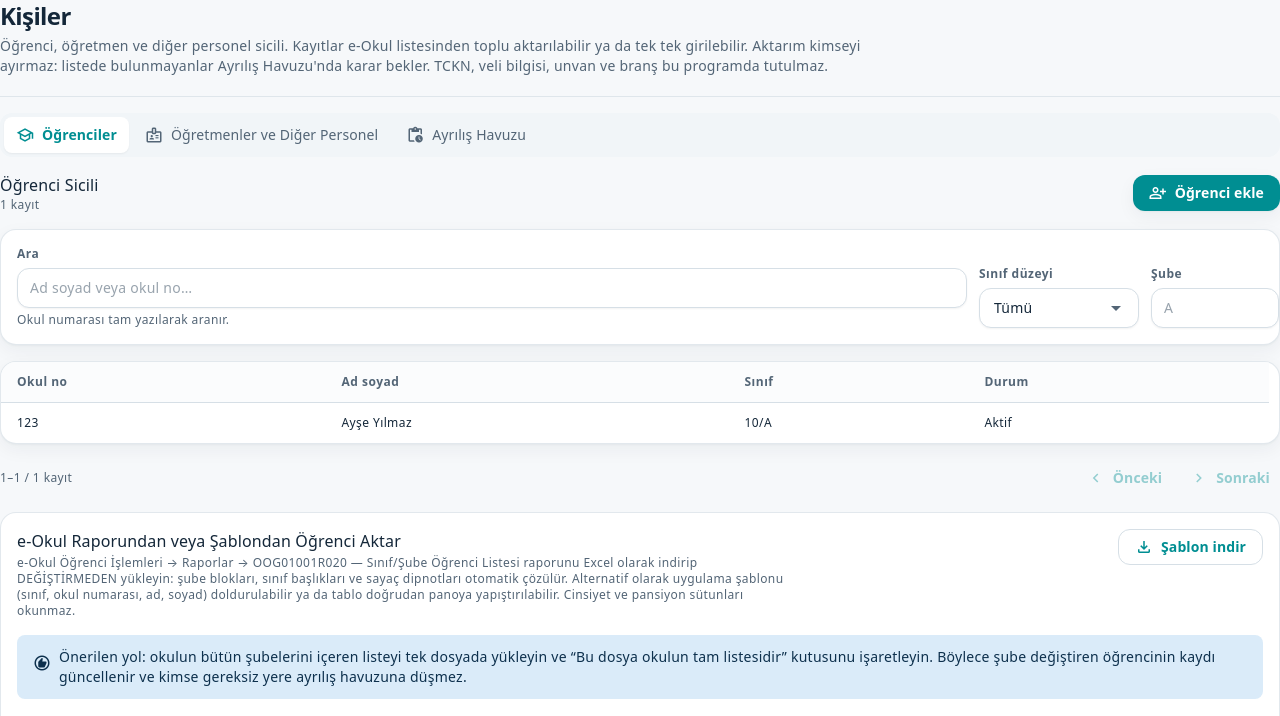
Test: KisilerPage — öğrenci ekleme/düzenleme/silme › düzenlemede değişiklik updateStudent'a gider ve liste tazelenir
Expected: the text "Ayşe Yılmaz" is shown, [326,402,728,443]
Click the button with aria-label "Ayşe Yılmaz kaydını düzenle".
click(377, 422)  # box [1,402,1269,443]
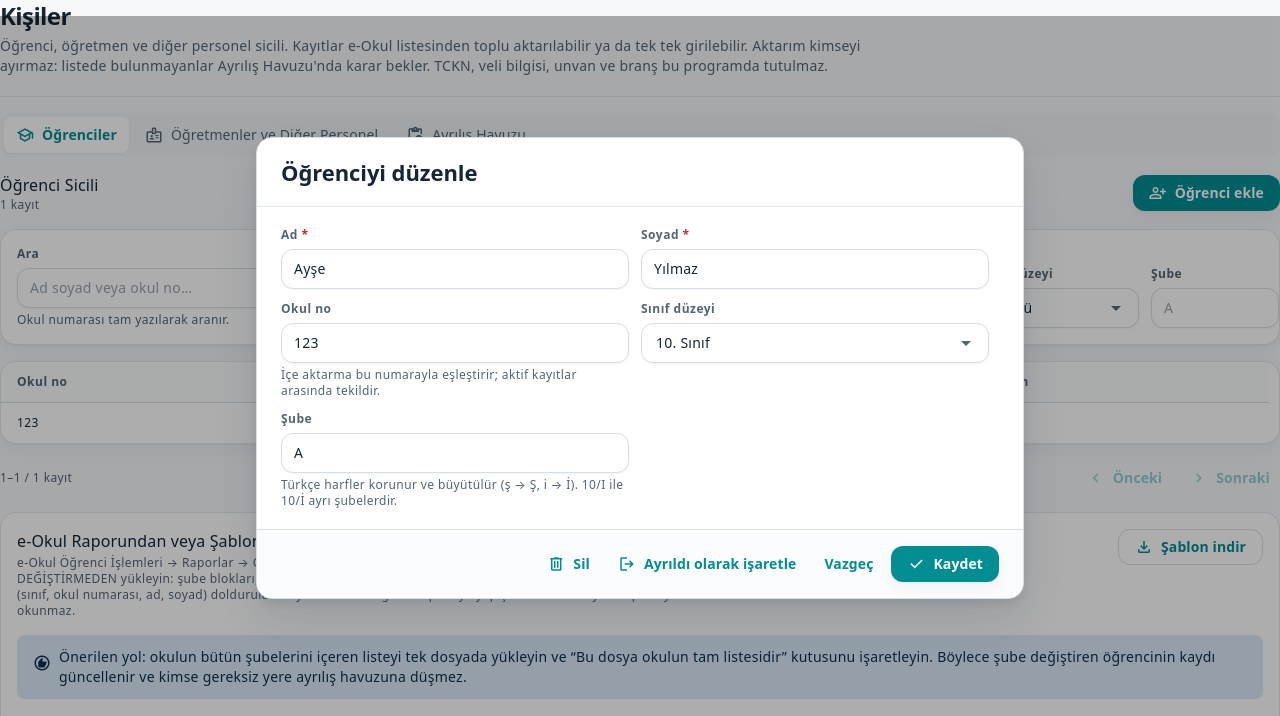
Replace the text in the field labelled "Şube" with "b" at x=455, y=453, box [294,443,616,463]
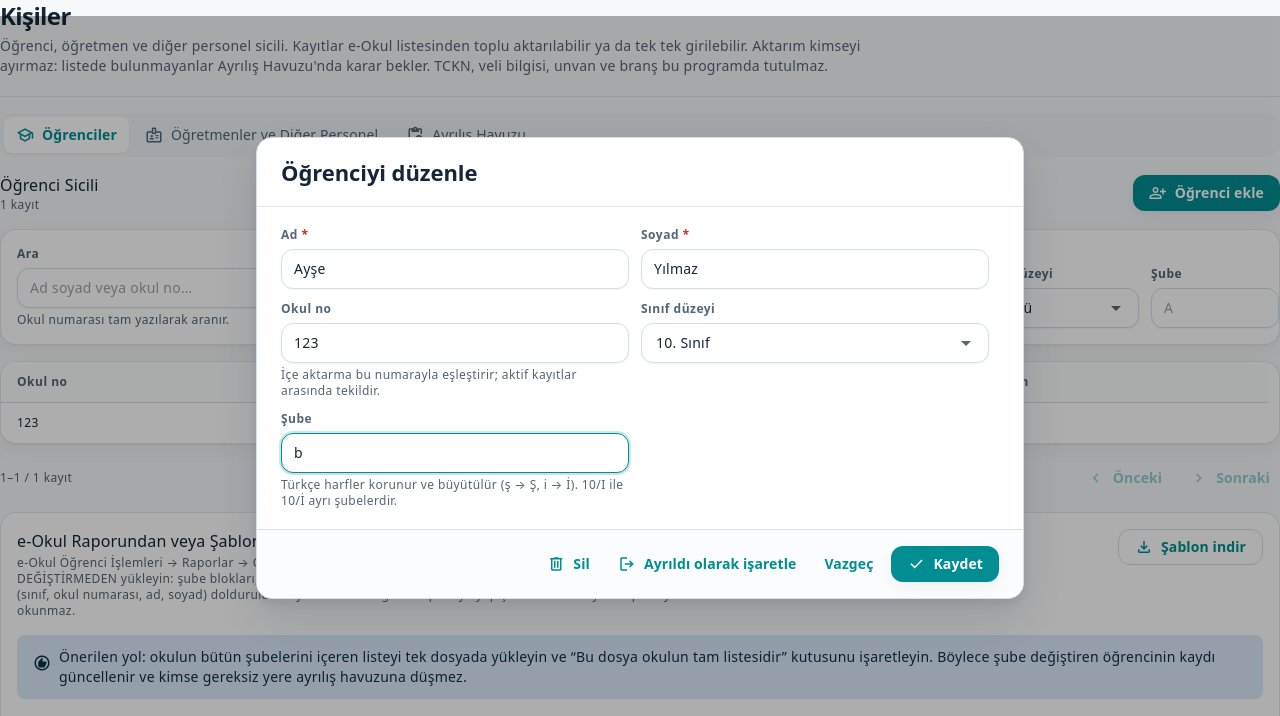
Click the button "Kaydet".
click(945, 564)  # box [892,546,999,582]
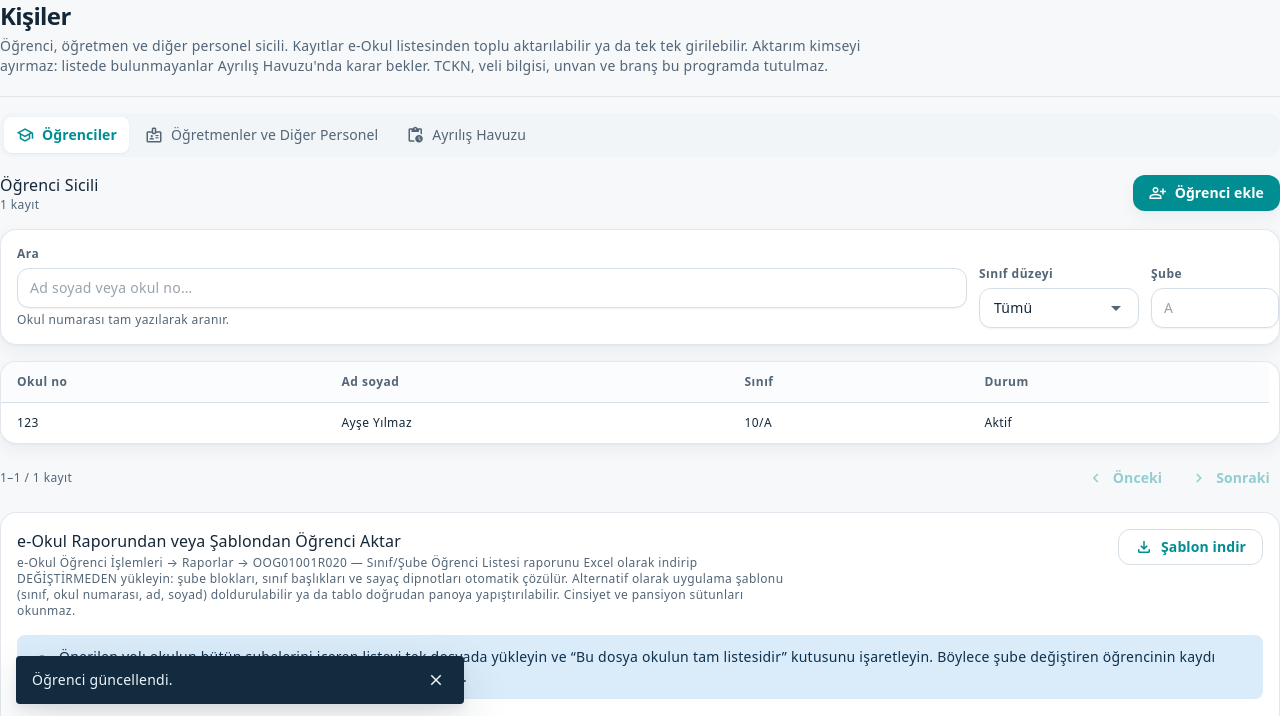
Expected: the text "Öğrenci güncellendi." is shown, [32,670,173,689]
